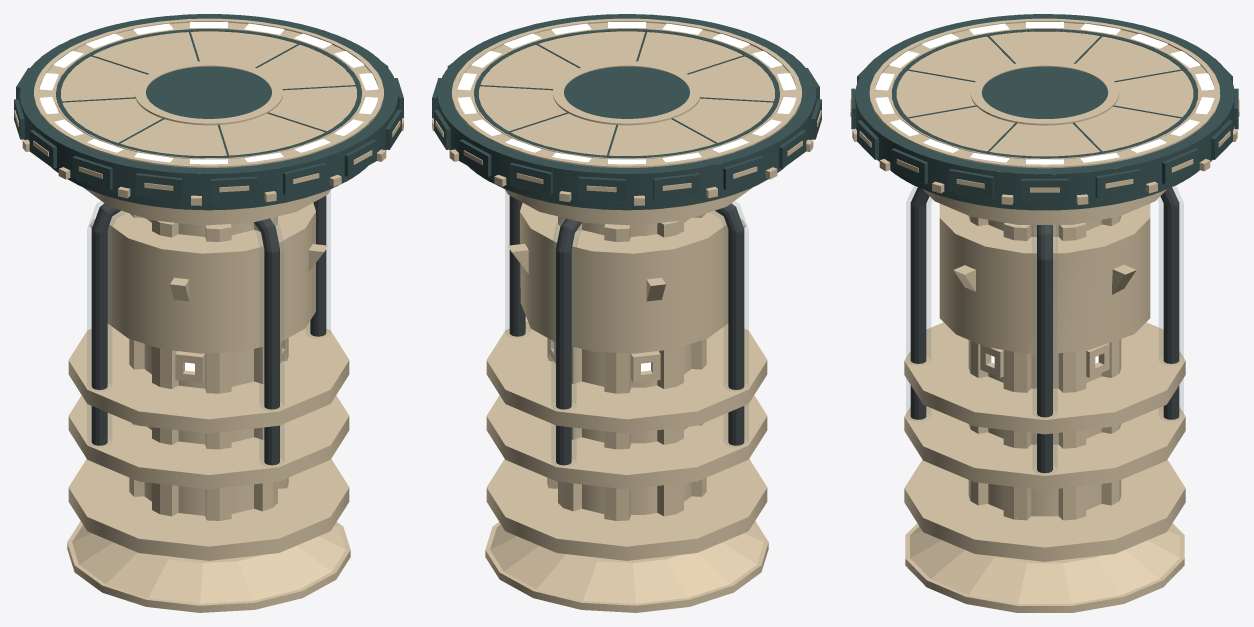
File: Platform_Relay_v3_lab2.glb
The picture shows the model from 3 angles, left to right: view 1: azimuth 30°, elevation 25°; view 2: azimuth 150°, elevation 25°; view 3: azimuth 270°, elevation 25°; orthographic projection.
Visible parts, largest first — view 1: Platform_Relay_v3; view 2: Platform_Relay_v3; view 3: Platform_Relay_v3.
Boxes of the visible parts, <box> form: Platform_Relay_v3: <box>14,14,403,612</box>; Platform_Relay_v3: <box>432,14,821,612</box>; Platform_Relay_v3: <box>850,14,1239,612</box>.
Bounding box in the file's own units: 12.32 × 16.11 × 12.32.
